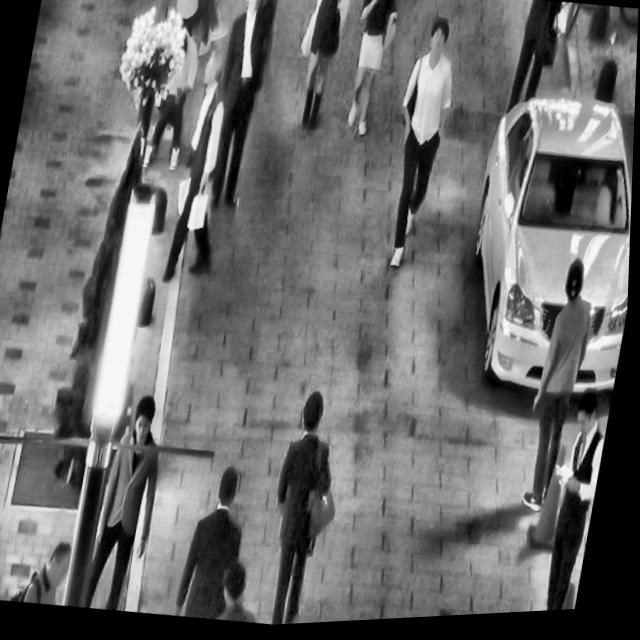light_vehicle: (443, 71, 637, 422)
